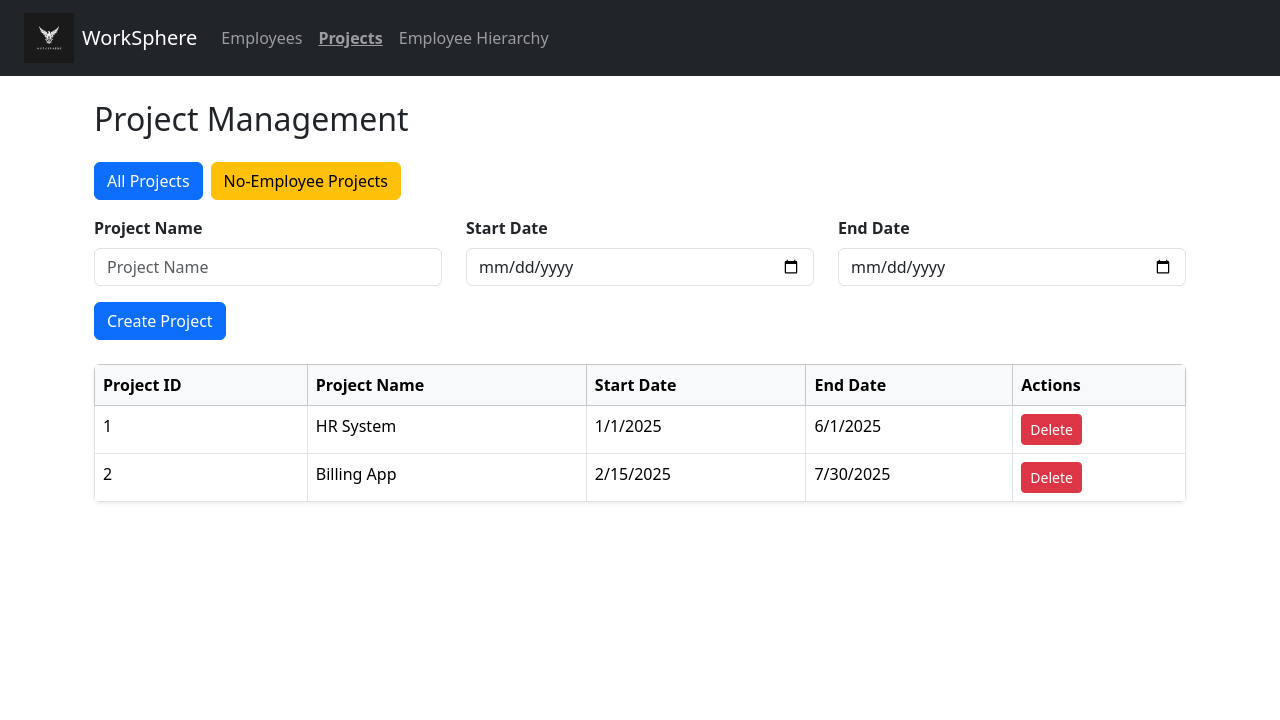
Test: Project Management Page › filters to no-employee projects on button click
The image size is (1280, 720).
What coordinates should you click on to do the following:
click the button with test id "no-employee-projects-btn"
I would click on:
 (307, 181)
Its box is 211,162 -> 402,200.
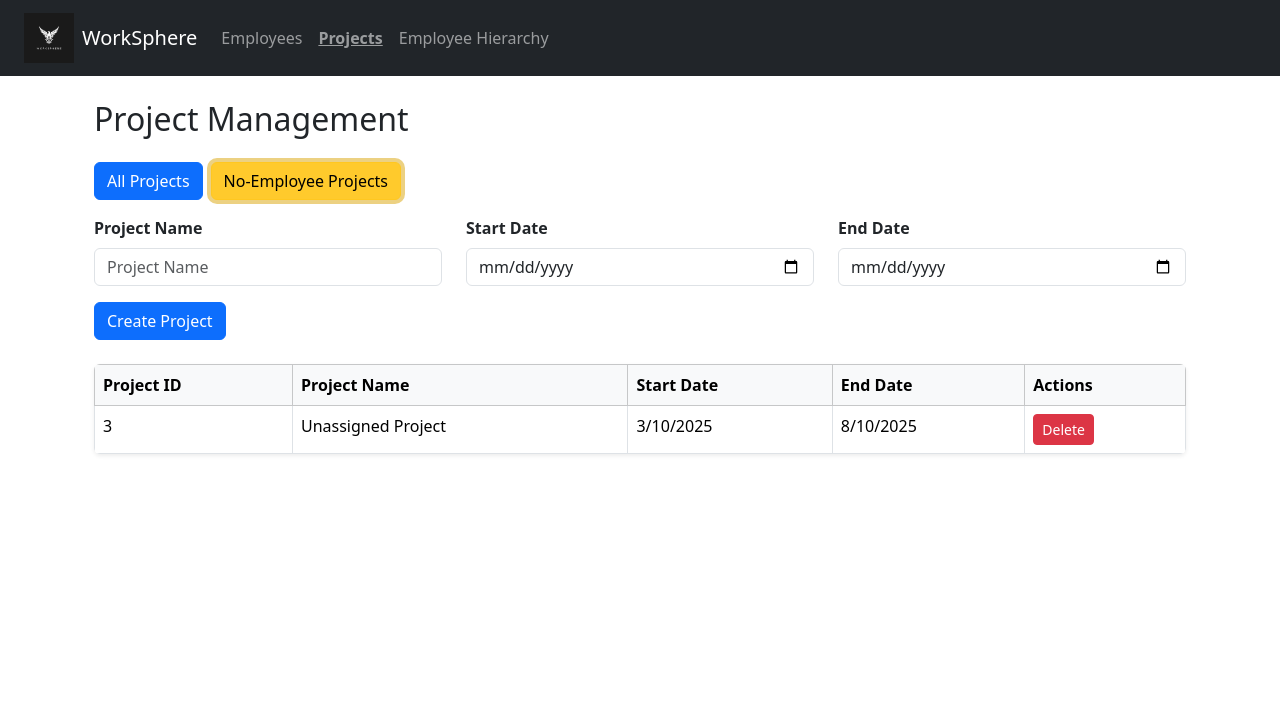
expect the text "Unassigned Project" is shown: met, box 292,406 -> 628,454
